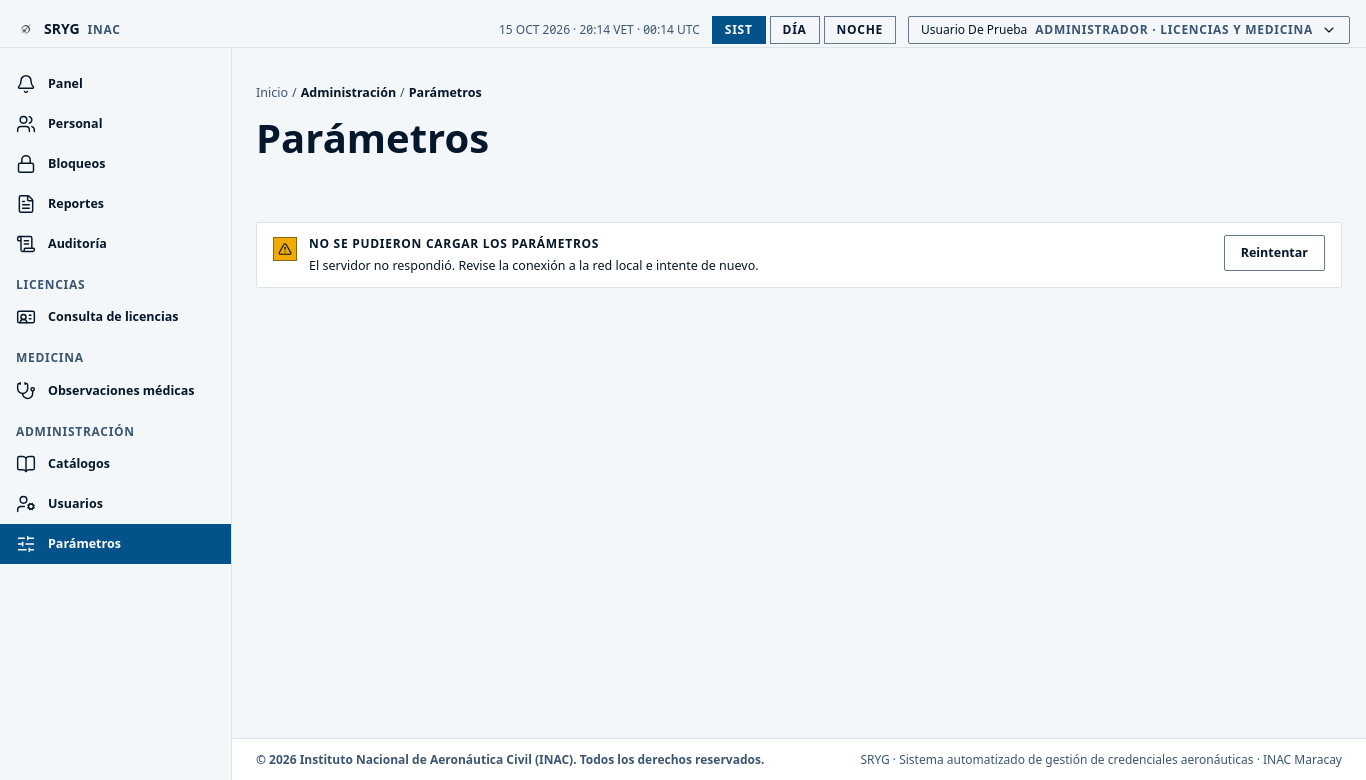
Parámetros (página 12, D3, D15, D18) › shows the error state and retries
Expected: the text "No se pudieron cargar los parámetros" is shown, [309,235,599,252]
Click the button "Reintentar" at [1274, 253], box [1224,235,1325,271]
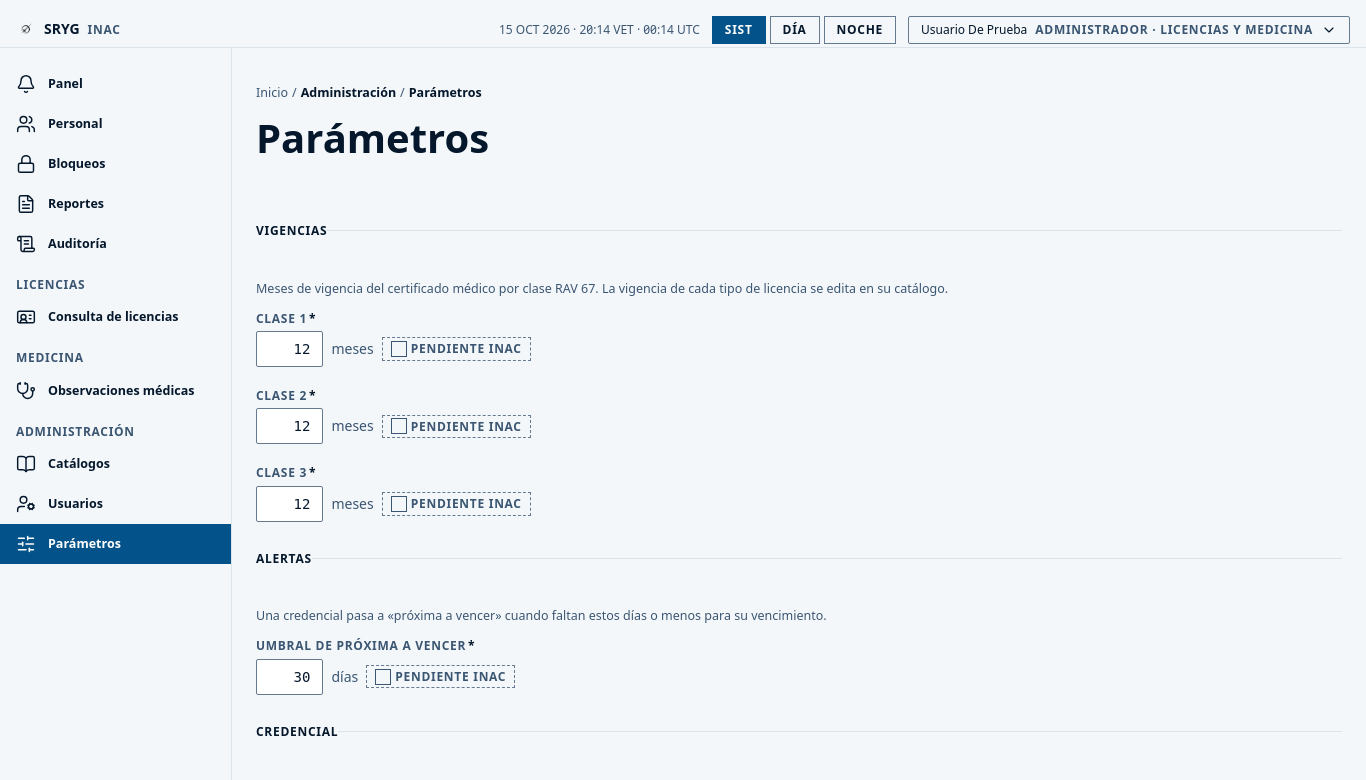
Expected: the field labelled "Umbral de próxima a vencer *" is shown, [256,659,323,695]
